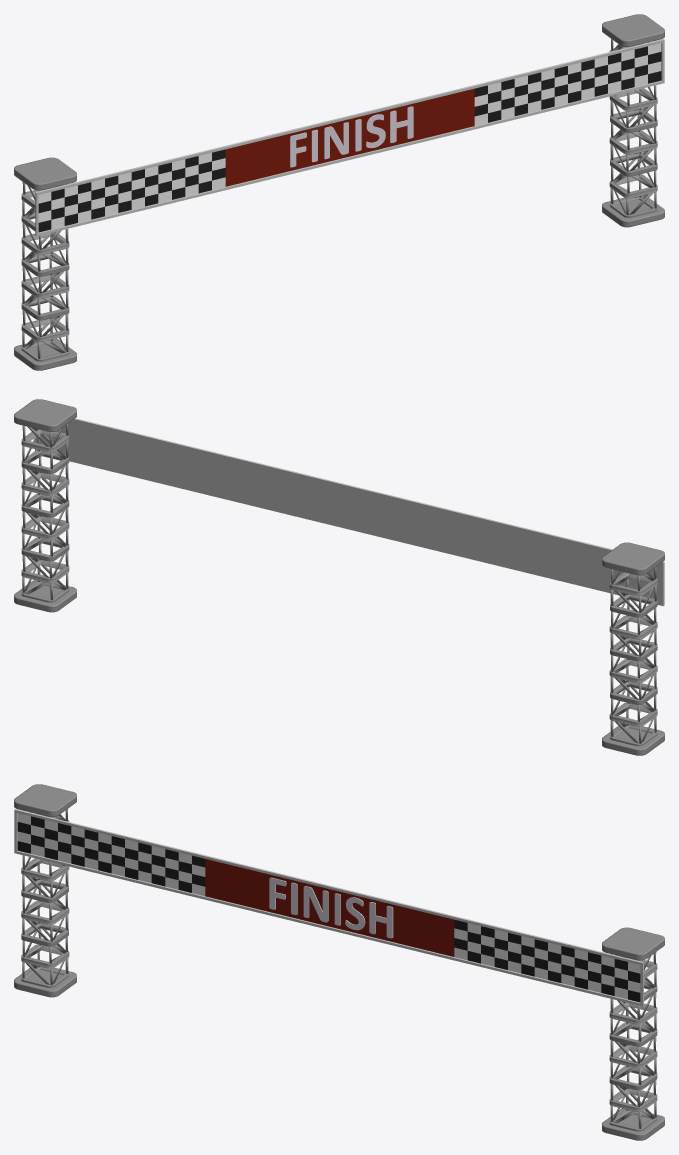
The model's file is finish-line.glb.
3 views of the same model, one above another, from view 1: azimuth 30°, elevation 25°; view 2: azimuth 150°, elevation 25°; view 3: azimuth 330°, elevation 25° (orthographic).
Parts seen in each view (by area): view 1: Board.001, pole.001, matel tab, Finish, matel tab bottom; view 2: Board.001, pole.001, matel tab, matel tab bottom; view 3: Board.001, pole.001, matel tab, Finish, matel tab bottom.
Part boxes in pixels (<box>): Board.001: <box>35,39,664,236</box>; pole.001: <box>21,39,657,361</box>; matel tab: <box>14,14,664,190</box>; Finish: <box>290,106,413,167</box>; matel tab bottom: <box>14,195,664,370</box>; Board.001: <box>35,418,664,606</box>; pole.001: <box>21,424,657,746</box>; matel tab: <box>14,399,664,575</box>; matel tab bottom: <box>14,580,664,755</box>; Board.001: <box>14,809,643,1006</box>; pole.001: <box>21,809,657,1131</box>; matel tab: <box>14,784,664,960</box>; Finish: <box>269,877,393,938</box>; matel tab bottom: <box>14,965,664,1140</box>.
Bounding box in the file's own units: 15.16 × 4.28 × 1.05.
3 materials, 1 textured.
